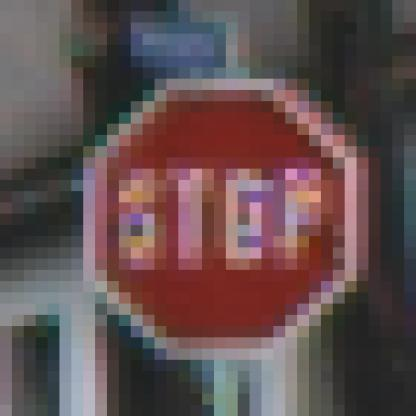stop: (68, 71, 375, 374)
